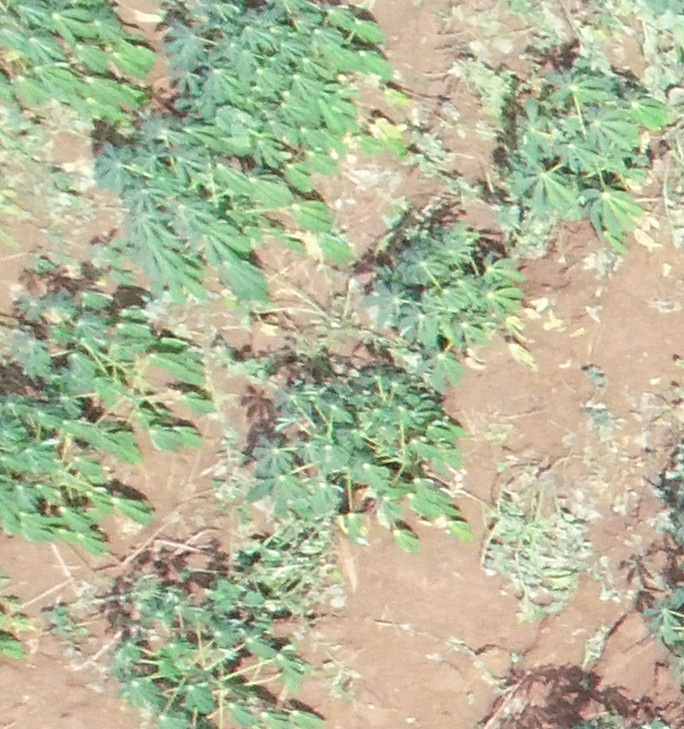stand: (1, 269, 206, 545), (265, 364, 458, 543), (494, 49, 670, 233), (125, 566, 318, 729), (373, 213, 527, 375)
